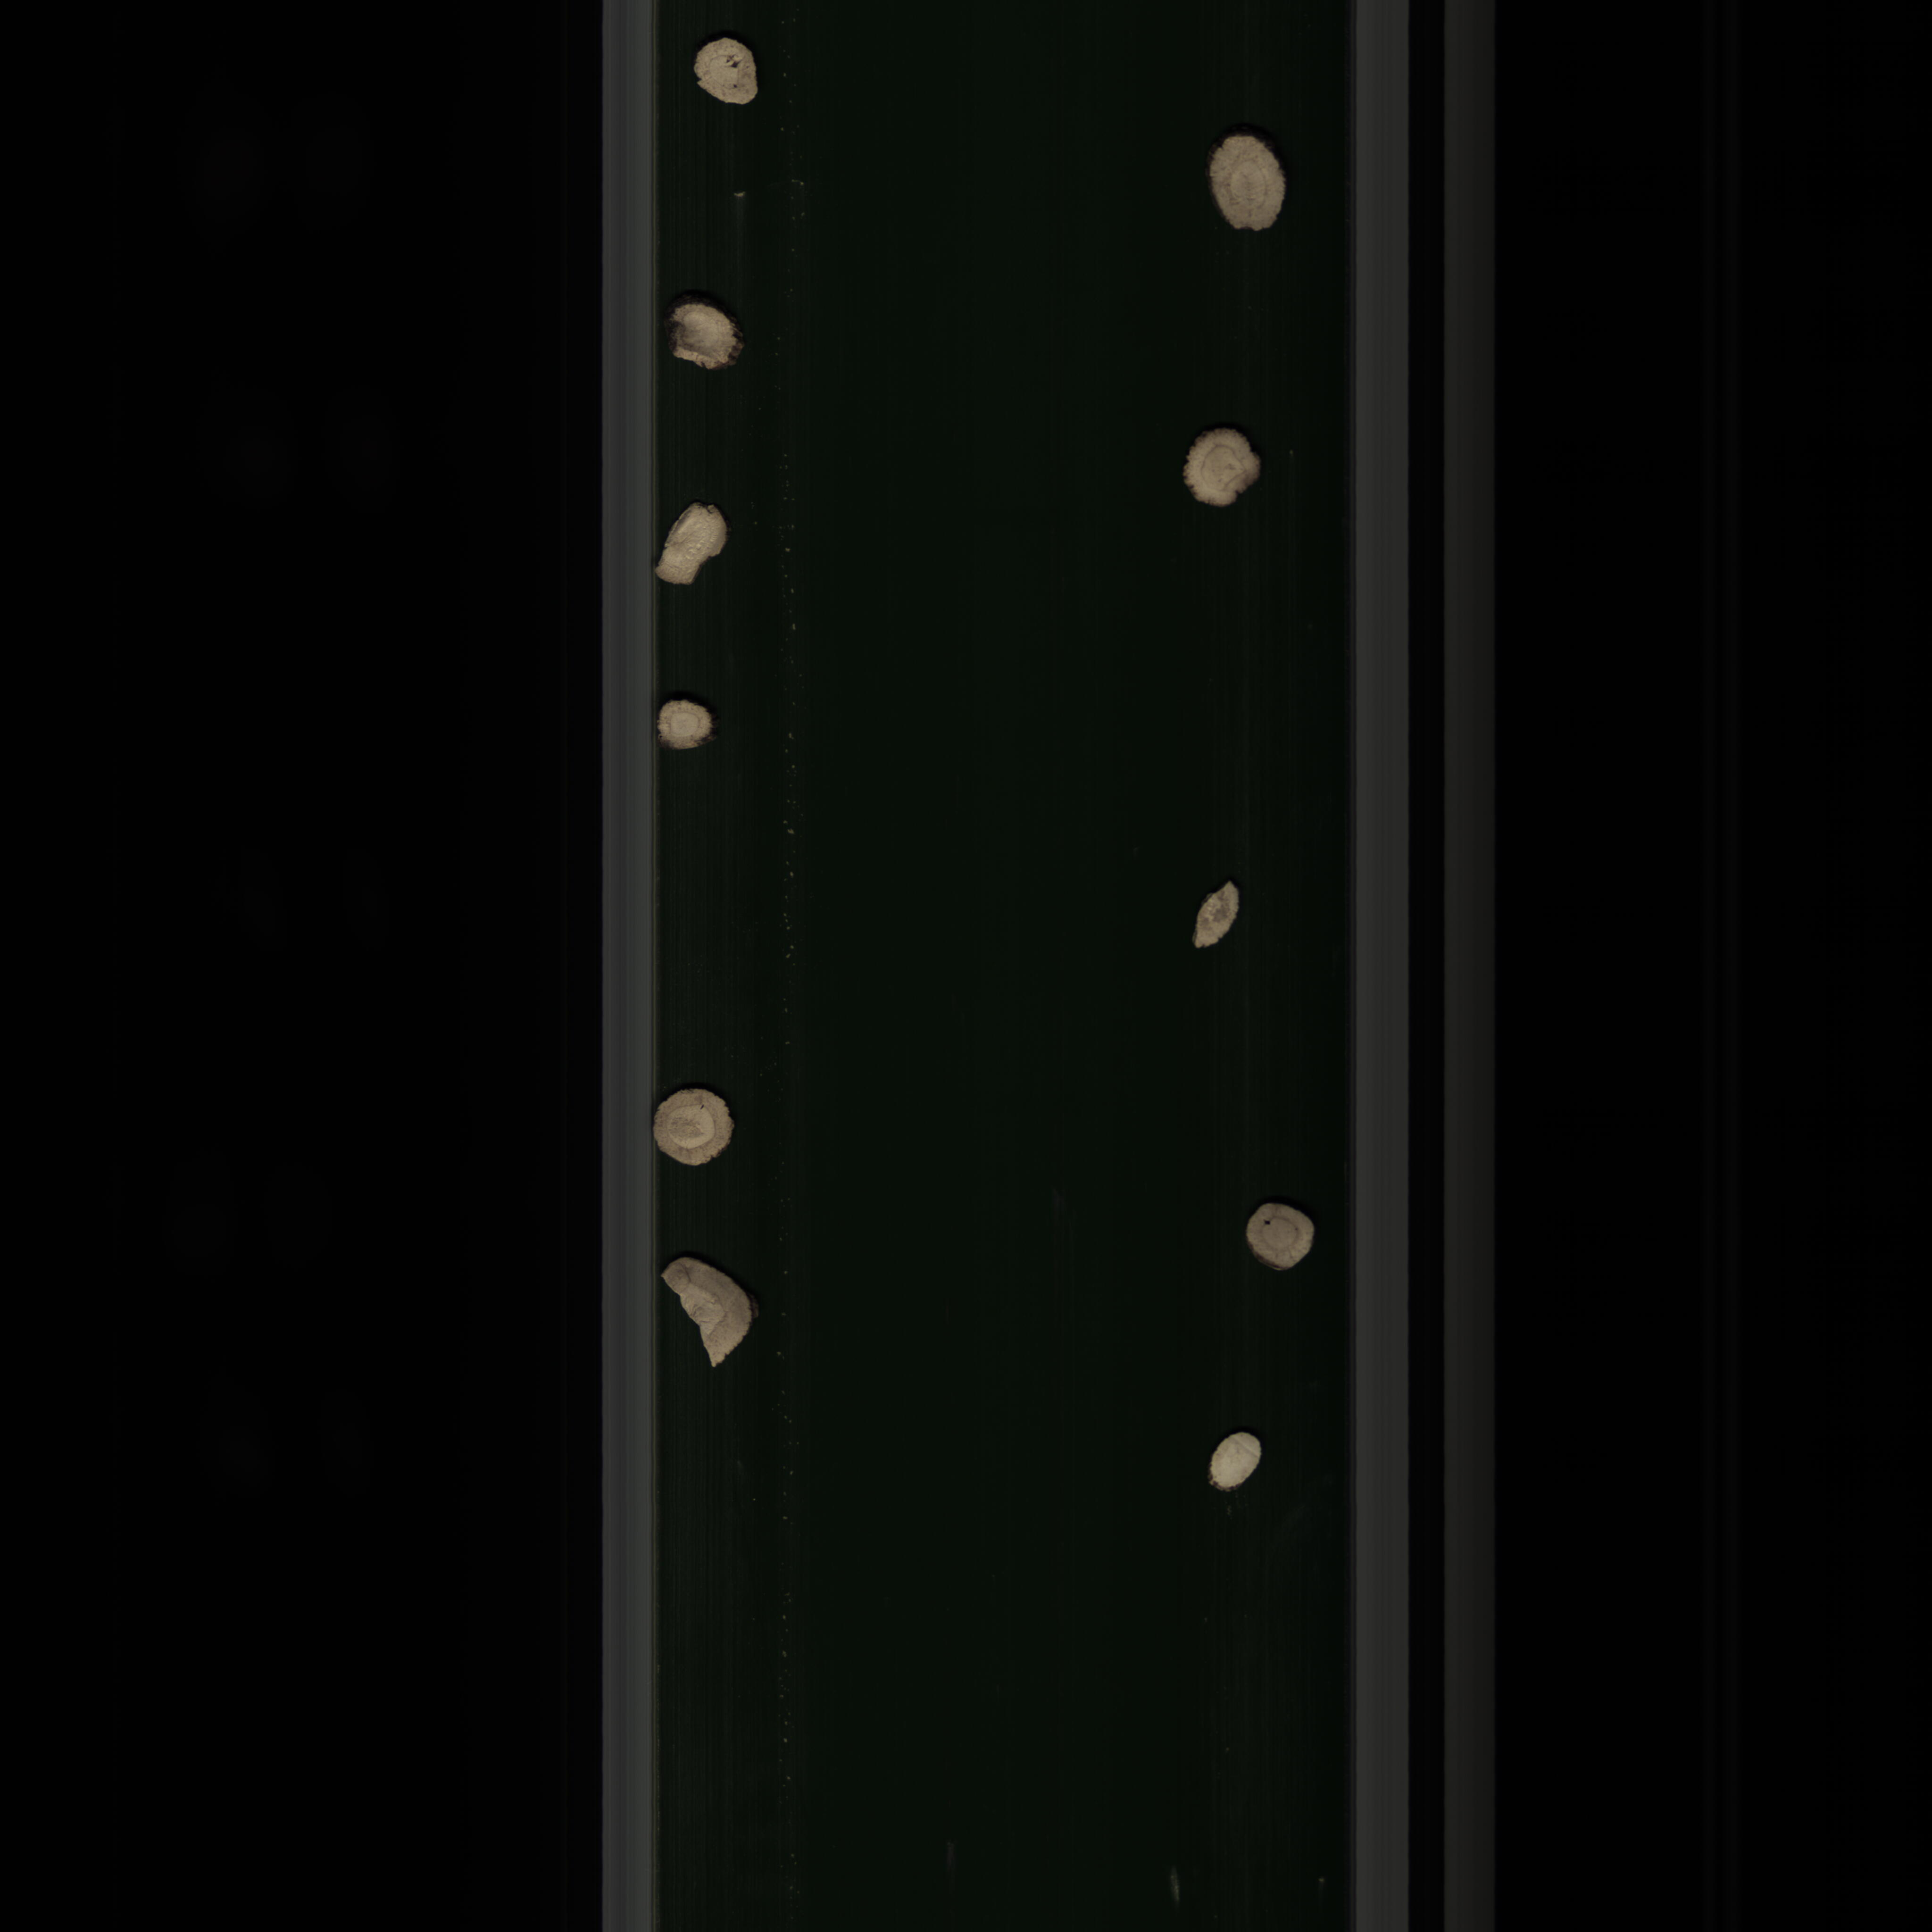debris: (656, 1244, 764, 1380), (651, 495, 727, 586), (1189, 872, 1244, 955)
hole: (683, 28, 764, 113), (1240, 1198, 1320, 1277)
moldy: (665, 287, 752, 375)
